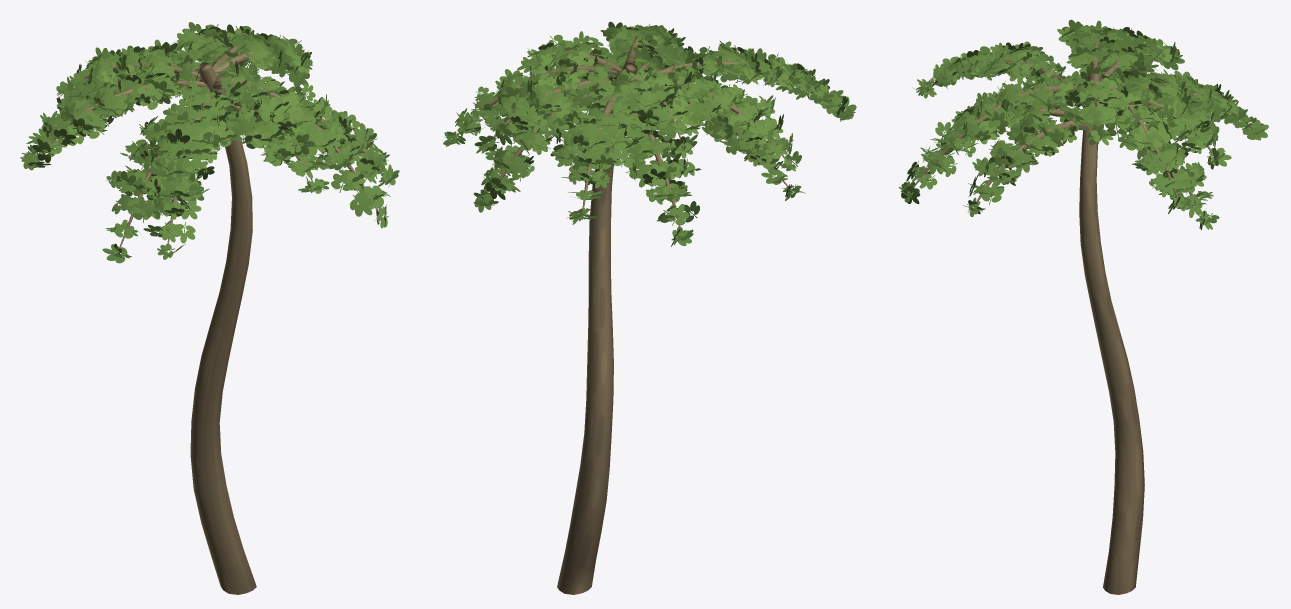
File: tree.gltf
3 views of the same model, side by side, from view 1: azimuth 30°, elevation 25°; view 2: azimuth 150°, elevation 25°; view 3: azimuth 270°, elevation 25° (orthographic). The views are drawn at different scales.
Visible parts, largest first — view 1: Tree_LOD0; view 2: Tree_LOD0; view 3: Tree_LOD0.
Boxes of the visible parts, box(x1,y1,x2,y2) form: Tree_LOD0: box(20, 22, 399, 594); Tree_LOD0: box(443, 21, 856, 594); Tree_LOD0: box(898, 19, 1268, 594).
Bounding box in the file's own units: 10.59 × 16.53 × 11.3.
Materials: 2 (2 with a texture image).
